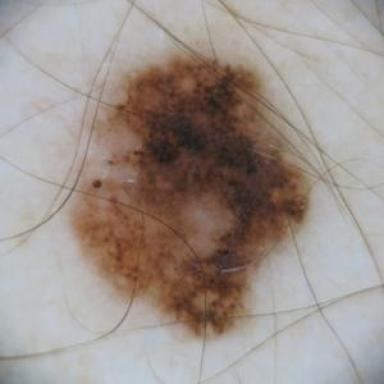Melanoma: (73, 58, 308, 333)
